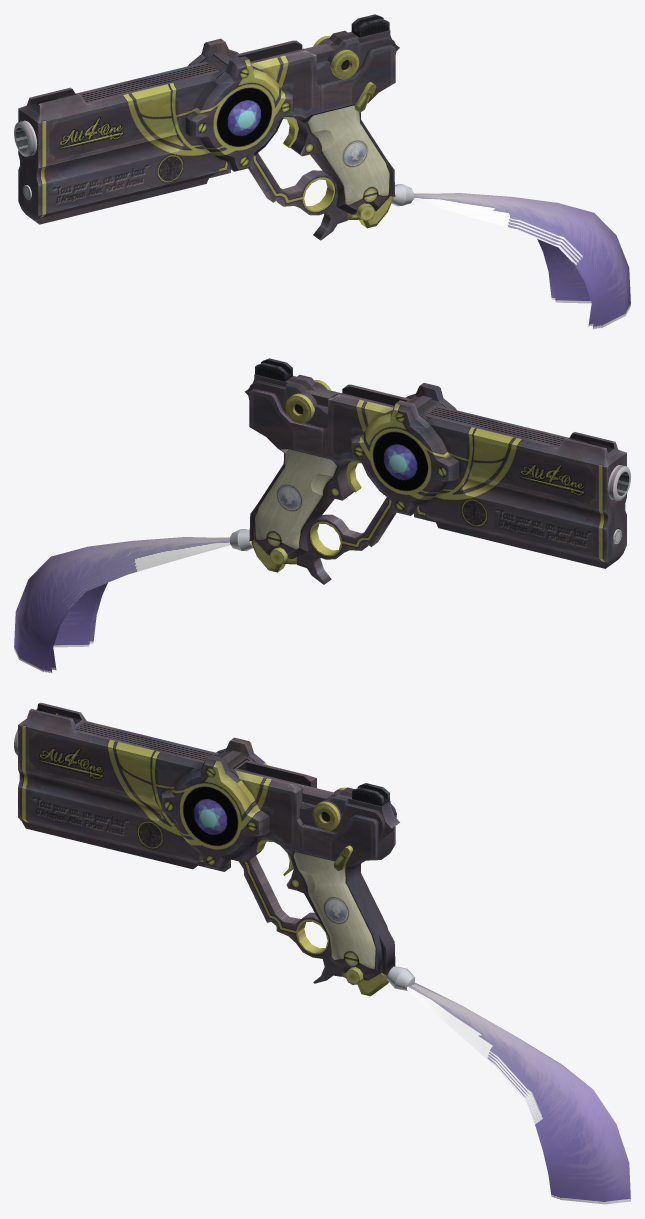
File: bayonettaPistol.fbx
3 renders of one model, top to bottom at view 1: azimuth 30°, elevation 25°; view 2: azimuth 150°, elevation 25°; view 3: azimuth 330°, elevation 25°, orthographic.
Visible parts, largest first — view 1: mesh15, mesh17, mesh16, mesh13, mesh14, mesh13.001; view 2: mesh15, mesh17, mesh16, mesh13, mesh14, mesh13.001; view 3: mesh15, mesh17, mesh16, mesh13, mesh14.
Part boxes in pixels (box(x1,y1,x2,y2)): mesh15: box(18, 14, 399, 240); mesh17: box(413, 193, 630, 329); mesh16: box(307, 105, 389, 205); mesh13: box(347, 184, 413, 228); mesh14: box(227, 99, 261, 135); mesh13.001: box(14, 120, 37, 156); mesh15: box(245, 358, 626, 584); mesh17: box(14, 537, 230, 672); mesh16: box(255, 449, 337, 549); mesh13: box(230, 529, 296, 572); mesh14: box(383, 443, 416, 479); mesh13.001: box(607, 465, 630, 500); mesh15: box(18, 702, 399, 983); mesh17: box(407, 982, 630, 1204); mesh16: box(293, 852, 375, 969); mesh13: box(342, 966, 414, 996); mesh14: box(194, 798, 227, 834).
Size of the model in its own units: 104 by 57.73 by 14.27.
Materials: 5 (5 with a texture image).
